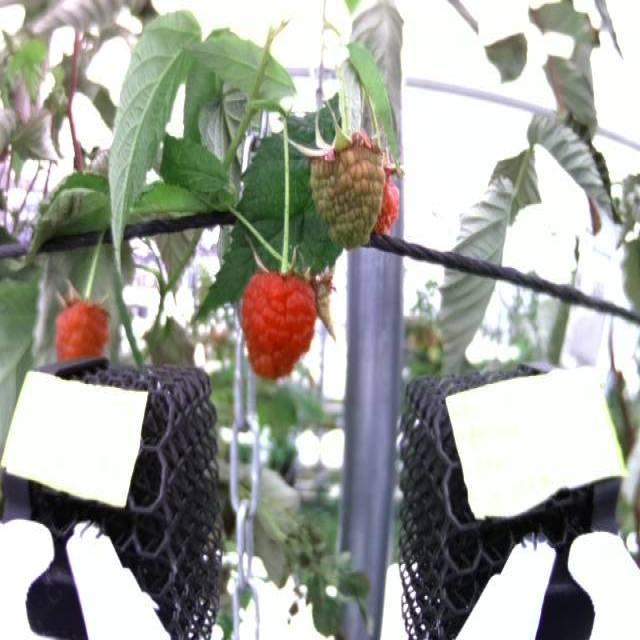Riped berries: (240, 256, 320, 378), (54, 287, 110, 360)
